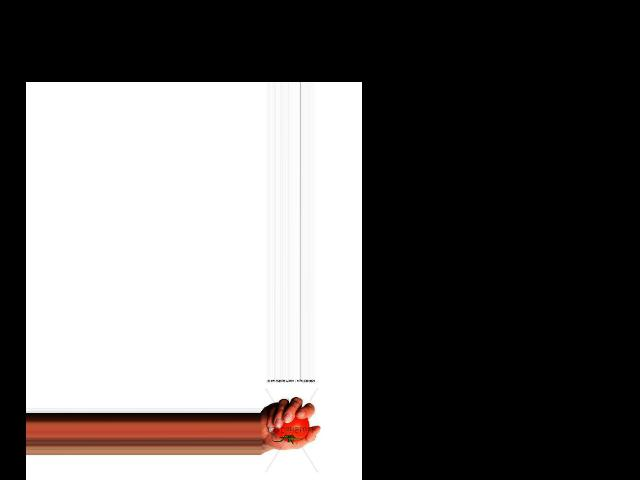tomato: (273, 417, 309, 441)
